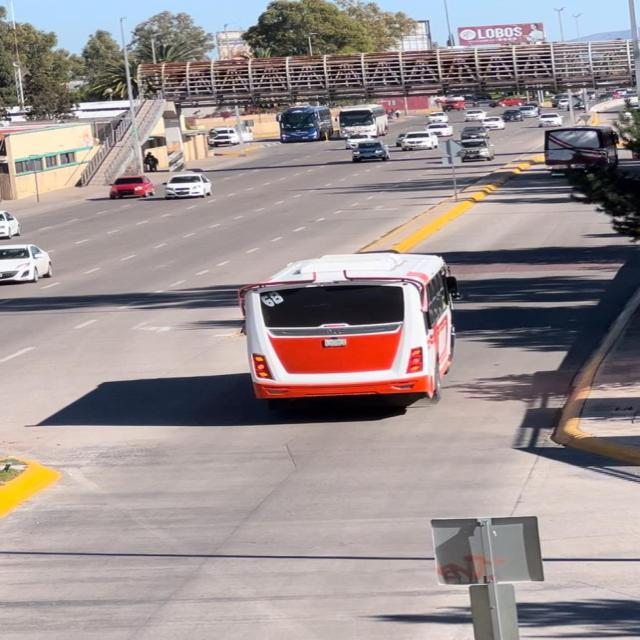Auto: (0, 228, 50, 297), (100, 170, 162, 203), (160, 165, 214, 202), (339, 140, 404, 170), (448, 141, 504, 163), (396, 130, 441, 150), (479, 115, 509, 131), (536, 111, 562, 127), (422, 112, 453, 124), (466, 108, 488, 121)
Autobus: (207, 242, 491, 418), (259, 99, 329, 142), (339, 100, 386, 136)
Peaton: (140, 151, 160, 171)
